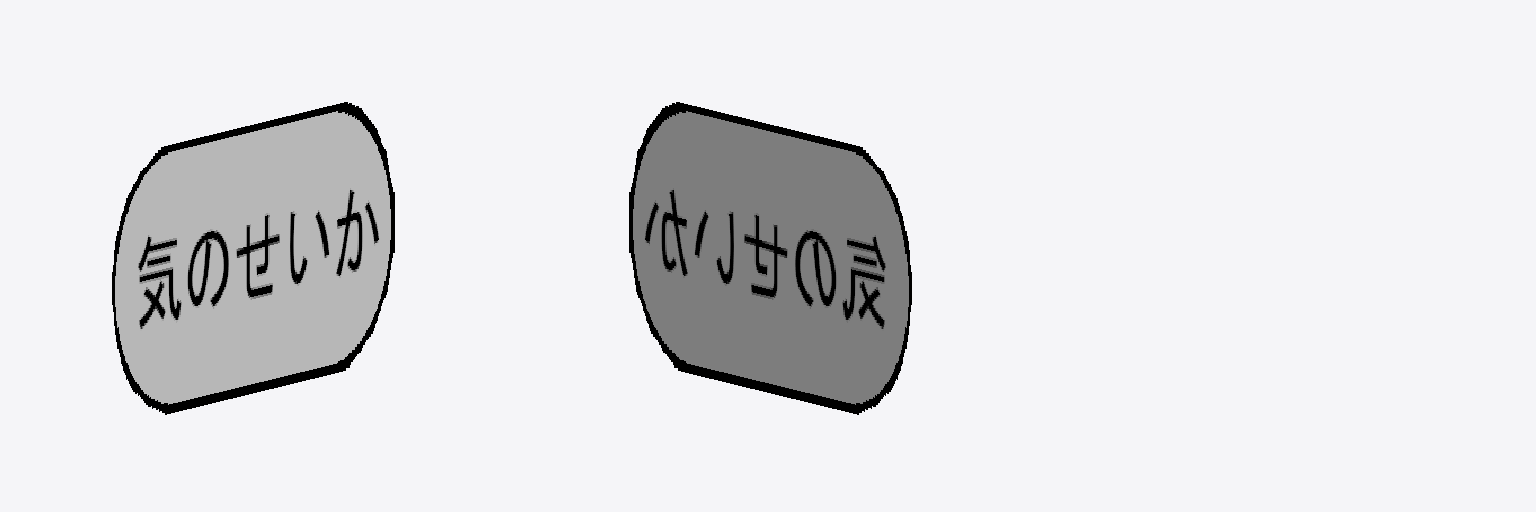
3 views of the same model, side by side, from view 1: azimuth 30°, elevation 25°; view 2: azimuth 150°, elevation 25°; view 3: azimuth 270°, elevation 25° (orthographic).
Parts seen in each view (by area): view 1: Plane; view 2: Plane; view 3: none.
Boxes of the visible parts, <box> form: Plane: <box>112,102,394,414</box>; Plane: <box>629,102,911,414</box>.
Bounding box in the file's own units: 2 × 2 × 0.
1 materials, 1 textured.